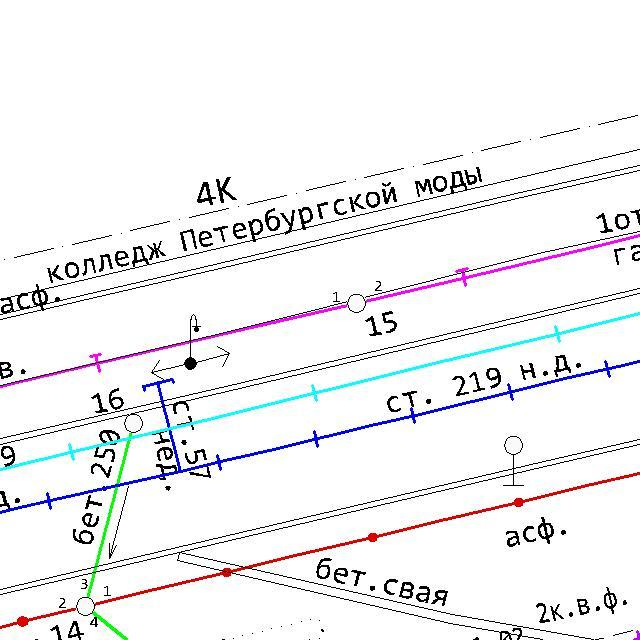asphalt: (505, 516, 568, 550)
sing: (501, 434, 526, 487)
well: (345, 291, 368, 315), (122, 412, 145, 435), (75, 596, 96, 618)
